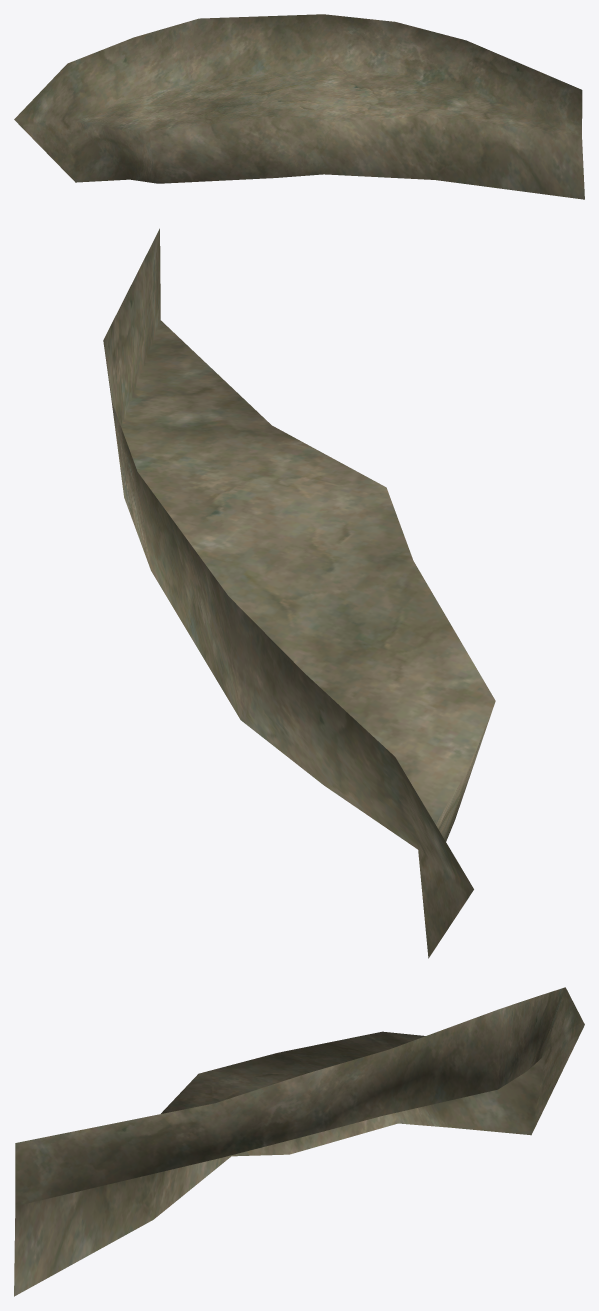
The model's file is EKH_GROTTO_PS_GR_LEDGE_83736.fbx.
The picture shows the model from 3 angles, top to bottom: view 1: azimuth 30°, elevation 25°; view 2: azimuth 150°, elevation 25°; view 3: azimuth 270°, elevation 25°; orthographic projection. The views are drawn at different scales.
Visible parts, largest first — view 1: EKH_GROTTO_PS_GR_LEDGE_83736; view 2: EKH_GROTTO_PS_GR_LEDGE_83736; view 3: EKH_GROTTO_PS_GR_LEDGE_83736.
Boxes of the visible parts, box(x1,y1,x2,y2) form: EKH_GROTTO_PS_GR_LEDGE_83736: box(14, 14, 584, 199); EKH_GROTTO_PS_GR_LEDGE_83736: box(103, 228, 495, 958); EKH_GROTTO_PS_GR_LEDGE_83736: box(14, 987, 584, 1296).
Bounding box in the file's own units: 33913 × 14342 × 33183.
1 material, 1 textured.
